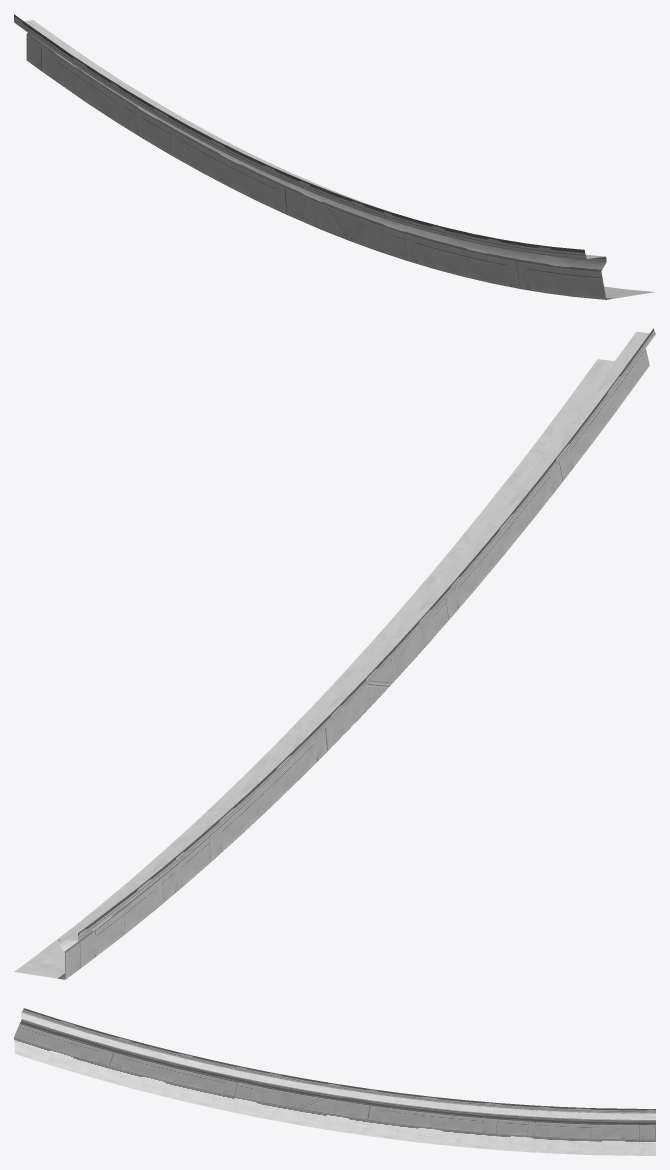
File: PRS_walltophalf.FBX
3 views of the same model, one above another, from view 1: azimuth 30°, elevation 25°; view 2: azimuth 150°, elevation 25°; view 3: azimuth 270°, elevation 25° (orthographic). The views are drawn at different scales.
Parts seen in each view (by area): view 1: PRS_walltophalf; view 2: PRS_walltophalf; view 3: PRS_walltophalf.
Part boxes in pixels (left/top/right/bottom): PRS_walltophalf: left=14, top=14, right=654, bottom=299; PRS_walltophalf: left=14, top=328, right=655, bottom=979; PRS_walltophalf: left=14, top=1008, right=655, bottom=1155.
Bounding box in the file's own units: 71.07 × 252 × 1124.
